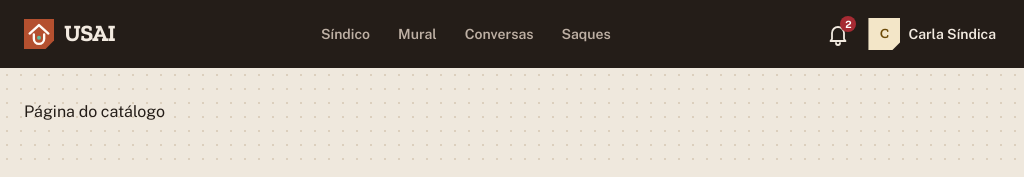
Test: AppShell › leva pra página de perfil ao clicar no chip da conta no header
What coordinates should you click on to do the following:
click the link "C Carla Síndica"
I would click on:
 (932, 34)
Its box is [864, 12, 1000, 56].
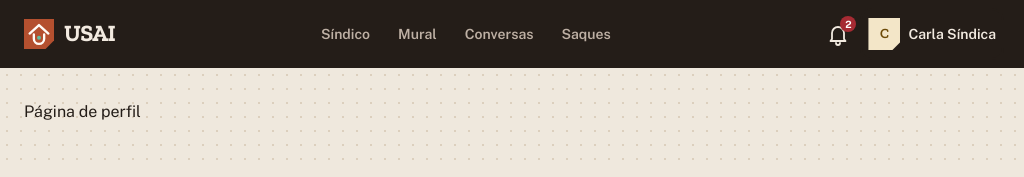
Now the text "Página de perfil" is shown, box [24, 102, 141, 121]
